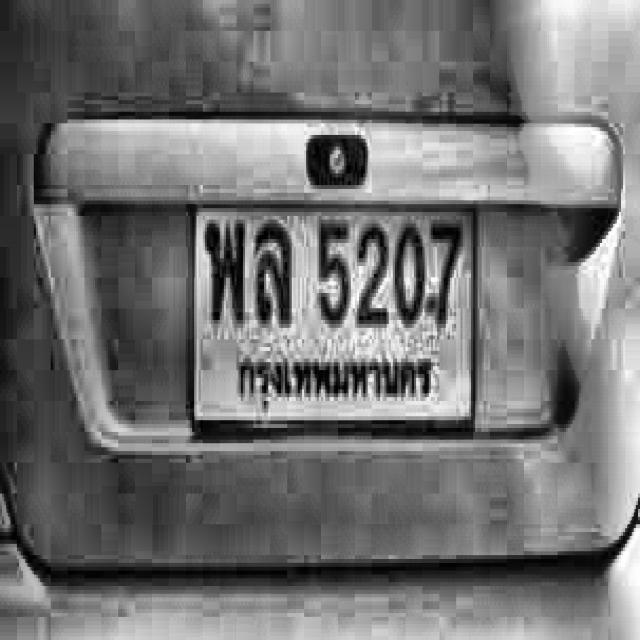license-plate: (190, 195, 478, 435)
